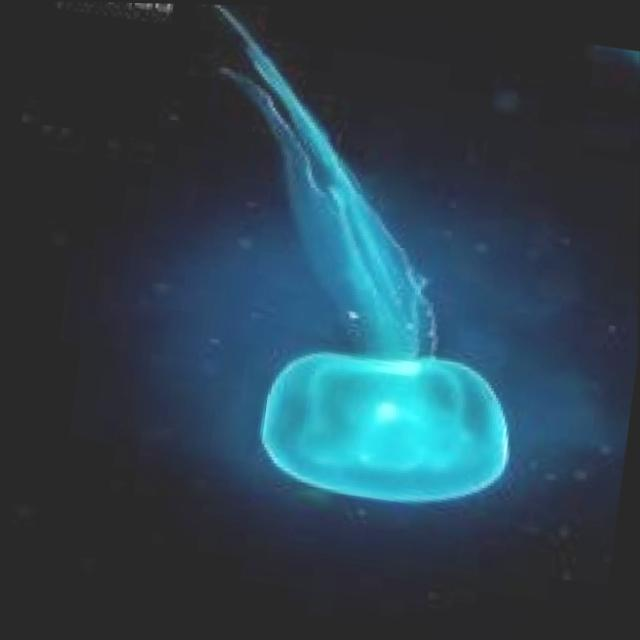Human: (145, 3, 565, 524)
